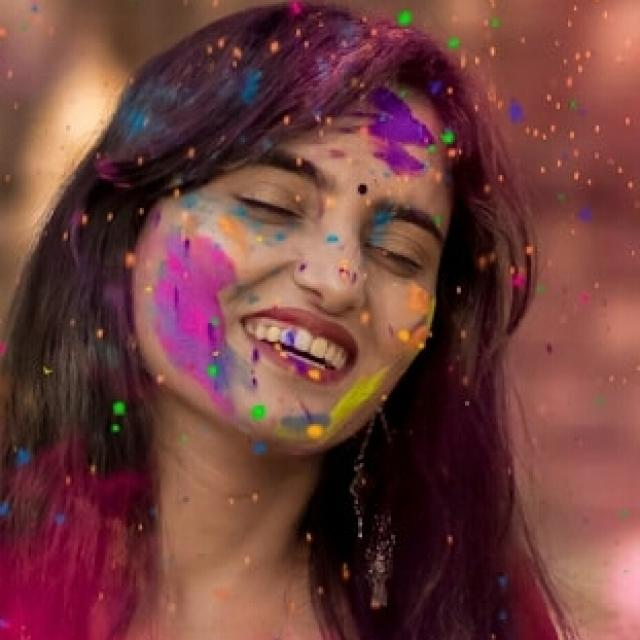front: (94, 62, 478, 470)
